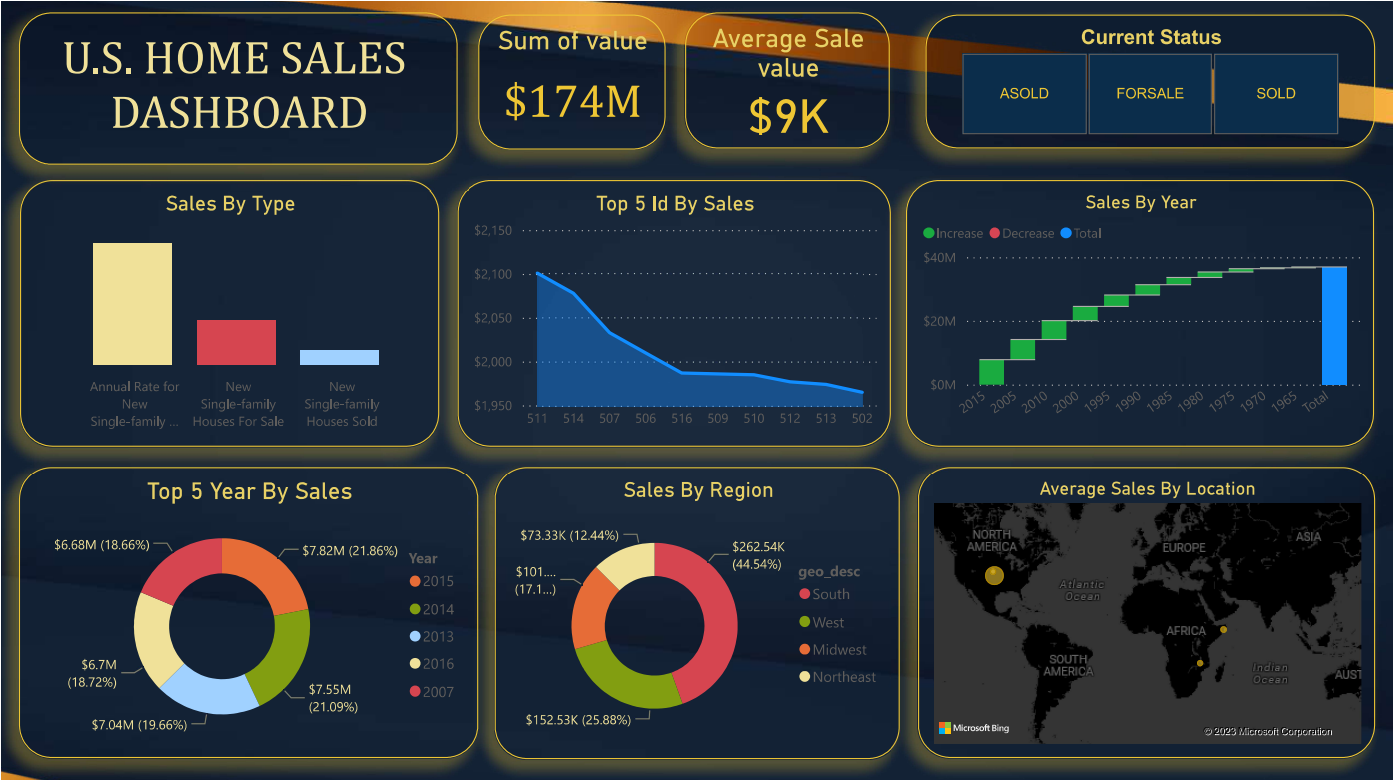

What the dashboard file says about the page in this screenshot:
{"tool":"powerbi","page":{"name":"Page 1","canvas":[1280,720],"ordinal":0},"visuals":[{"type":"donutChart","title":"Sales By Region","fields":{"Y":["Sum(enigma-us gov_ census eits_ ressales-e7513e56d76050c05caf638306055c98_1.val)"],"Category":["enigma-us gov_ census eits_ ressales-e7513e56d76050c05caf638306055c98_1.geo_desc"]},"box":[453.3,426.7,372.2,268.9],"z":0},{"type":"donutChart","title":"Top 5 Year By Sales","fields":{"Category":["enigma-us gov_ census eits_ ressales-e7513e56d76050c05caf638306055c98_1.Year"],"Y":["Sum(enigma-us gov_ census eits_ ressales-e7513e56d76050c05caf638306055c98_1.val)"]},"box":[16.3,426.7,422.1,268.6],"z":1000},{"type":"card","title":"Average Sale value","fields":{"Values":["Avg(enigma-us gov_ census eits_ ressales-e7513e56d76050c05caf638306055c98_1.val)"]},"box":[627.9,10.5,188.4,124.4],"z":2000},{"type":"map","title":"Average Sales By Location ","fields":{"Category":["enigma-us gov_ census eits_ ressales-e7513e56d76050c05caf638306055c98_1.geo_code"],"Size":["Avg(enigma-us gov_ census eits_ ressales-e7513e56d76050c05caf638306055c98_1.val)"]},"box":[841.9,426.7,419.8,268.6],"z":3000},{"type":"card","title":"Sum  of value","fields":{"Values":["Sum(enigma-us gov_ census eits_ ressales-e7513e56d76050c05caf638306055c98_1.val)"]},"box":[438.4,11.6,172.1,124.4],"z":4000},{"type":"waterfallChart","title":"Sales By Year","fields":{"Category":["enigma-us gov_ census eits_ ressales-e7513e56d76050c05caf638306055c98_1.Year"],"Y":["Sum(enigma-us gov_ census eits_ ressales-e7513e56d76050c05caf638306055c98_1.val)"]},"box":[831.1,164.4,430,244.4],"z":5000},{"type":"areaChart","title":"Top 5 Id By Sales","fields":{"Category":["enigma-us gov_ census eits_ ressales-e7513e56d76050c05caf638306055c98_1.per_idx"],"Y":["Sum(enigma-us gov_ census eits_ ressales-e7513e56d76050c05caf638306055c98_1.val)"]},"box":[418.9,164.4,397.8,244.4],"z":6000},{"type":"lineClusteredColumnComboChart","title":"Sales By Type","fields":{"Category":["enigma-us gov_ census eits_ ressales-e7513e56d76050c05caf638306055c98_1.cat_desc"],"Y":["Sum(enigma-us gov_ census eits_ ressales-e7513e56d76050c05caf638306055c98_1.val)"]},"box":[16.7,164.4,385.6,244.4],"z":7000},{"type":"slicer","title":" Current Status","fields":{"Values":["enigma-us gov_ census eits_ ressales-e7513e56d76050c05caf638306055c98_1.cat_code"]},"box":[848.8,11.6,412.8,123.3],"z":8000},{"type":"textbox","box":[16.3,10.5,402.3,139.5],"z":9000}]}

Visuals, with their boxes in screenshot pixels (x1, y1, x2, y2), scaled from the page's 1280x720 canvas onto the 1393x780 screenshot:
"Sales By Region" donutChart: <box>493,462,898,754</box>
"Top 5 Year By Sales" donutChart: <box>18,462,477,753</box>
"Average Sale value" card: <box>683,11,888,146</box>
"Average Sales By Location " map: <box>916,462,1373,753</box>
"Sum  of value" card: <box>477,13,664,147</box>
"Sales By Year" waterfallChart: <box>904,178,1372,443</box>
"Top 5 Id By Sales" areaChart: <box>456,178,889,443</box>
"Sales By Type" lineClusteredColumnComboChart: <box>18,178,438,443</box>
" Current Status" slicer: <box>924,13,1373,146</box>
textbox: <box>18,11,456,162</box>
